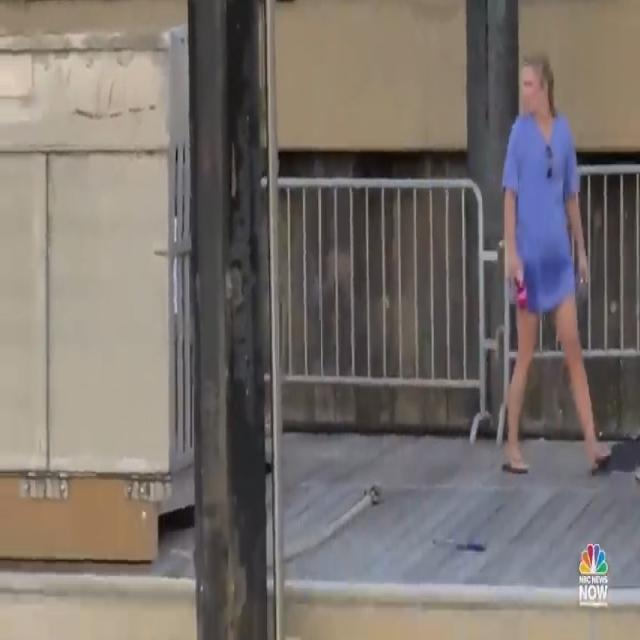non-fight: (495, 49, 613, 482)
